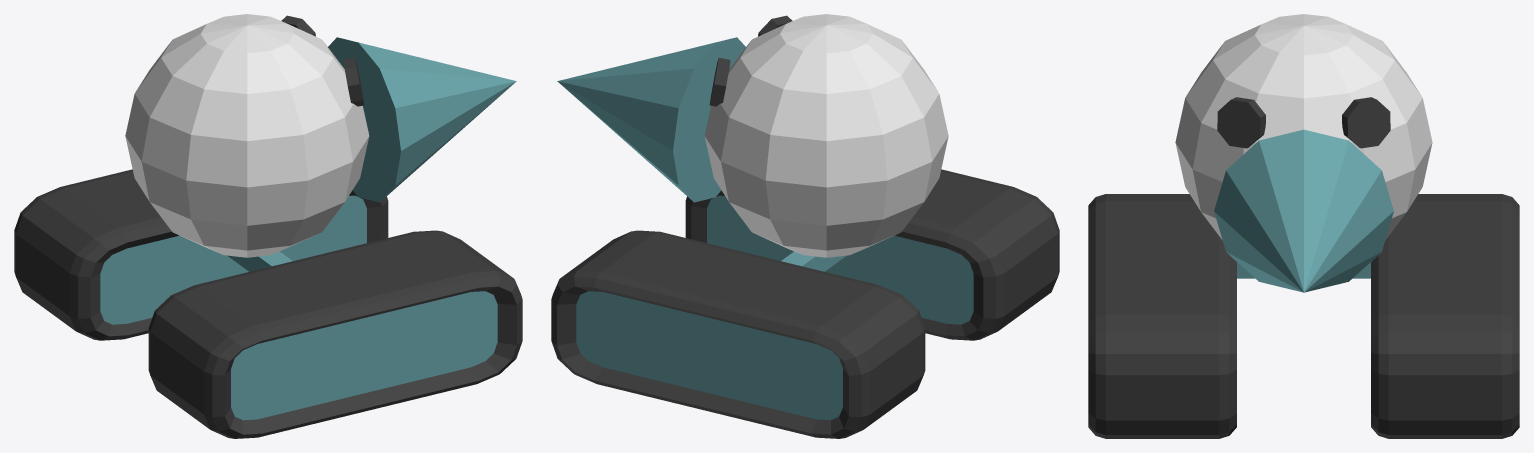
File: MineBot.fbx
3 views of the same model, side by side, from view 1: azimuth 30°, elevation 25°; view 2: azimuth 150°, elevation 25°; view 3: azimuth 270°, elevation 25° (orthographic). The views are drawn at different scales.
Visible parts, largest first — view 1: Right Tread, Miner Bot, Left Tread, Drill, Bar, Right Eye; view 2: Left Tread, Miner Bot, Right Tread, Drill, Bar, Left Eye; view 3: Left Tread, Right Tread, Miner Bot, Drill, Left Eye, Right Eye.
Part boxes in pixels (x1,y1,x2,y2): Right Tread: (148,230,522,438); Miner Bot: (125,14,369,257); Left Tread: (14,169,388,340); Drill: (328,37,516,202); Bar: (227,251,292,271); Right Eye: (343,58,364,106); Left Tread: (551,230,925,438); Miner Bot: (704,14,948,257); Right Tread: (685,169,1059,340); Drill: (557,37,745,202); Bar: (781,251,846,271); Left Eye: (709,58,730,106); Left Tread: (1371,194,1519,438); Right Tread: (1088,194,1236,438); Miner Bot: (1175,14,1432,239); Drill: (1214,129,1393,292); Left Eye: (1342,97,1390,148); Right Eye: (1217,97,1265,148).
Size of the model in its own units: 385 by 290 by 336.
